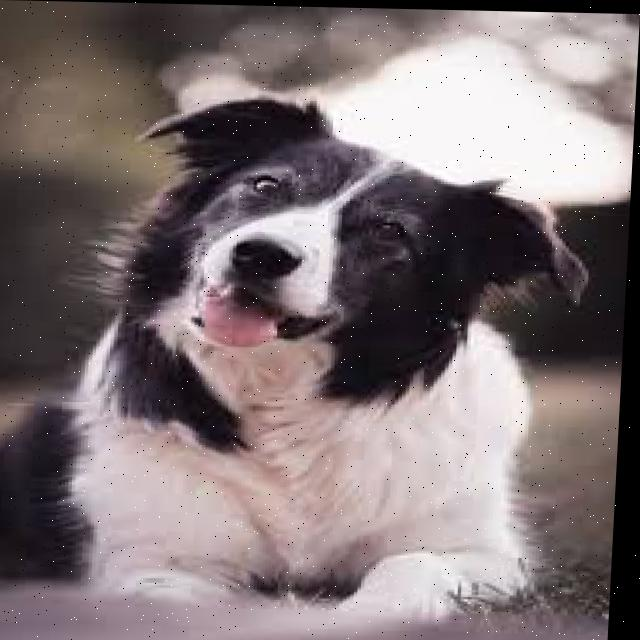BORDER_COLLIE: (0, 80, 637, 634)
